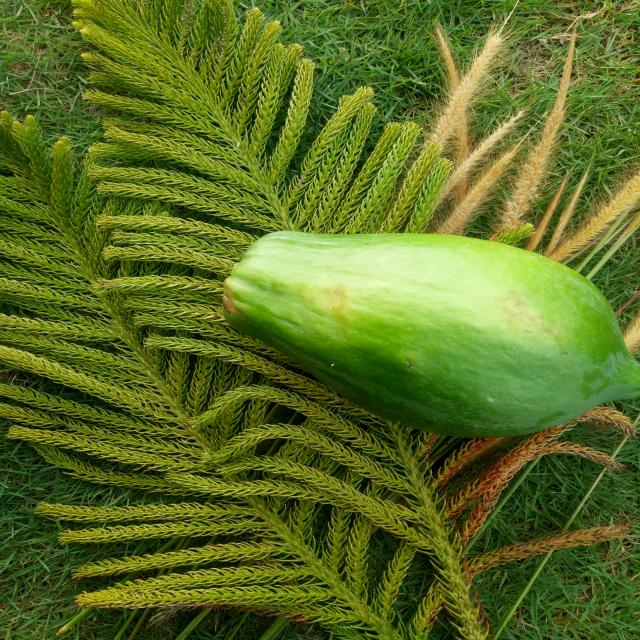Pepaya unrippen: (202, 214, 640, 443)
